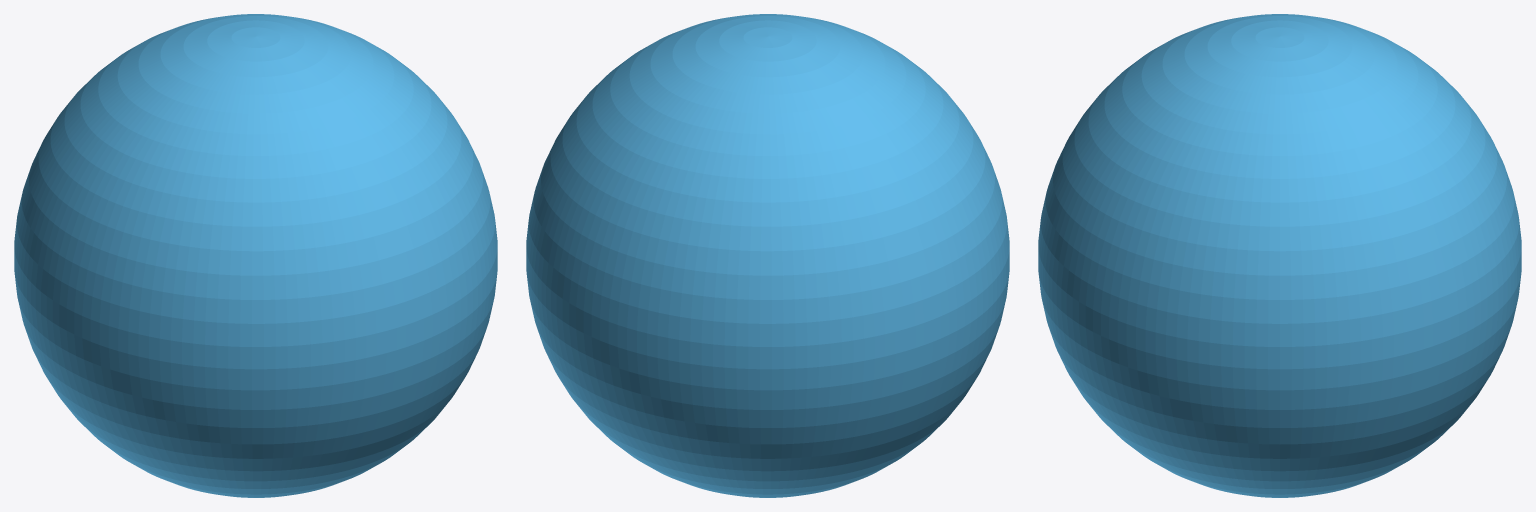
File: ball_blue.glb
The picture shows the model from 3 angles, left to right: view 1: azimuth 30°, elevation 25°; view 2: azimuth 150°, elevation 25°; view 3: azimuth 270°, elevation 25°; orthographic projection.
Parts seen in each view (by area): view 1: geometry_0; view 2: geometry_0; view 3: geometry_0.
Part boxes in pixels (x1,y1,x2,y2): geometry_0: (14, 14, 497, 497); geometry_0: (526, 14, 1009, 497); geometry_0: (1038, 14, 1521, 497).
Bounding box in the file's own units: 0.2197 × 0.22 × 0.2197.
